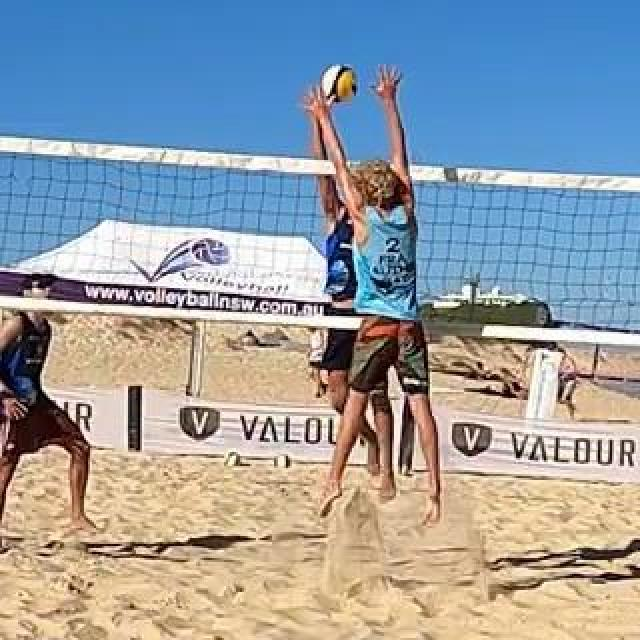volleyball: (322, 65, 360, 101), (271, 454, 293, 472), (223, 451, 241, 469)
